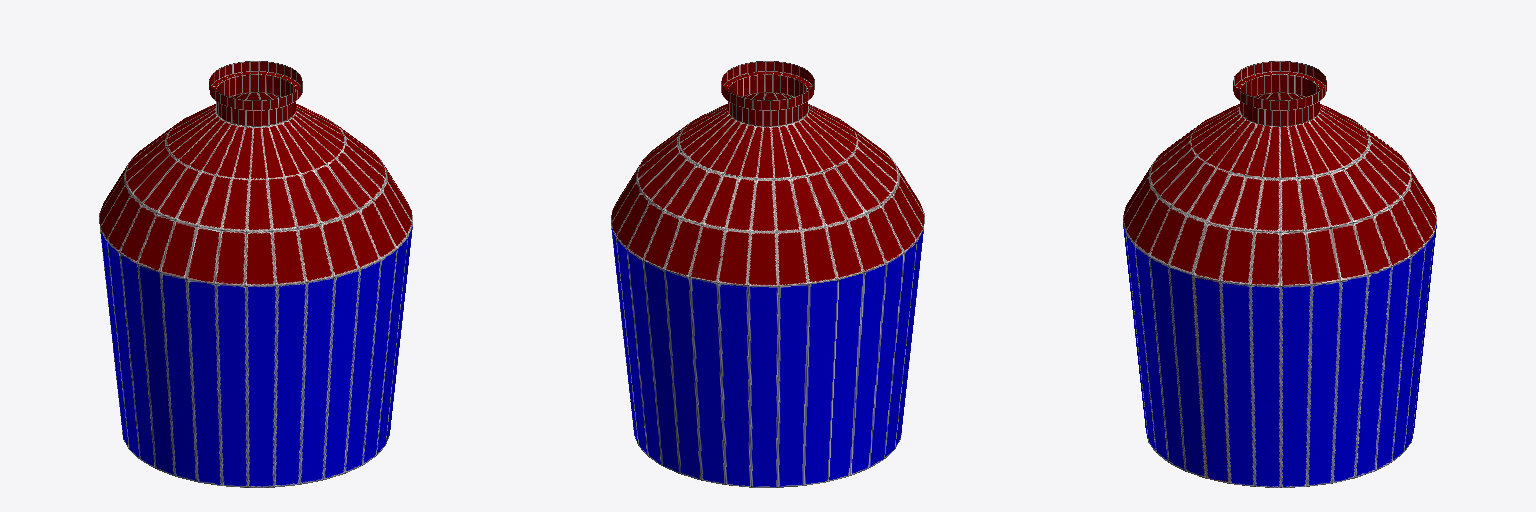
3 renders of one model, left to right at view 1: azimuth 30°, elevation 25°; view 2: azimuth 150°, elevation 25°; view 3: azimuth 270°, elevation 25°, orthographic.
Parts seen in each view (by area): view 1: Circle; view 2: Circle; view 3: Circle.
Boxes of the visible parts, x1=… form: Circle: x1=99, y1=61, x2=412, y2=487; Circle: x1=611, y1=61, x2=924, y2=487; Circle: x1=1123, y1=61, x2=1436, y2=487.
Size of the model in its own units: 0.5278 by 0.6487 by 0.5278.
Materials: 1 (1 with a texture image).